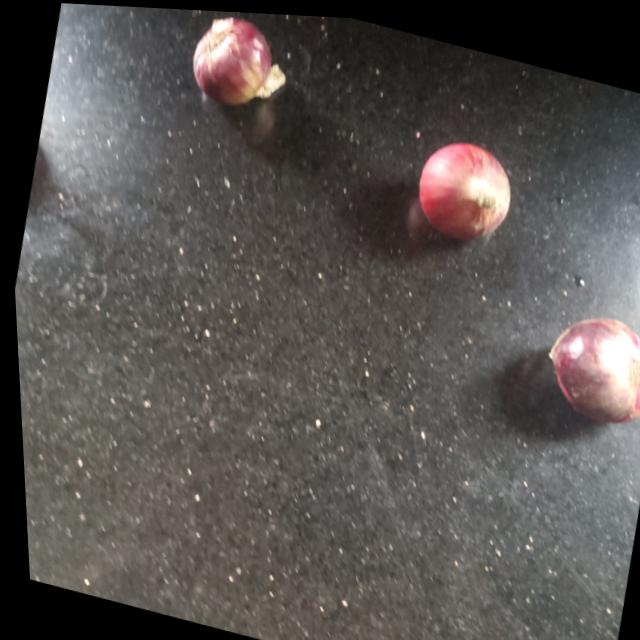onion: (530, 297, 640, 428), (403, 126, 521, 246), (185, 8, 285, 111)
